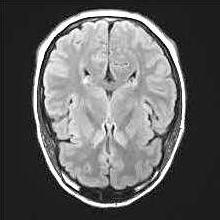Normal_Brain: (9, 1, 216, 220)
